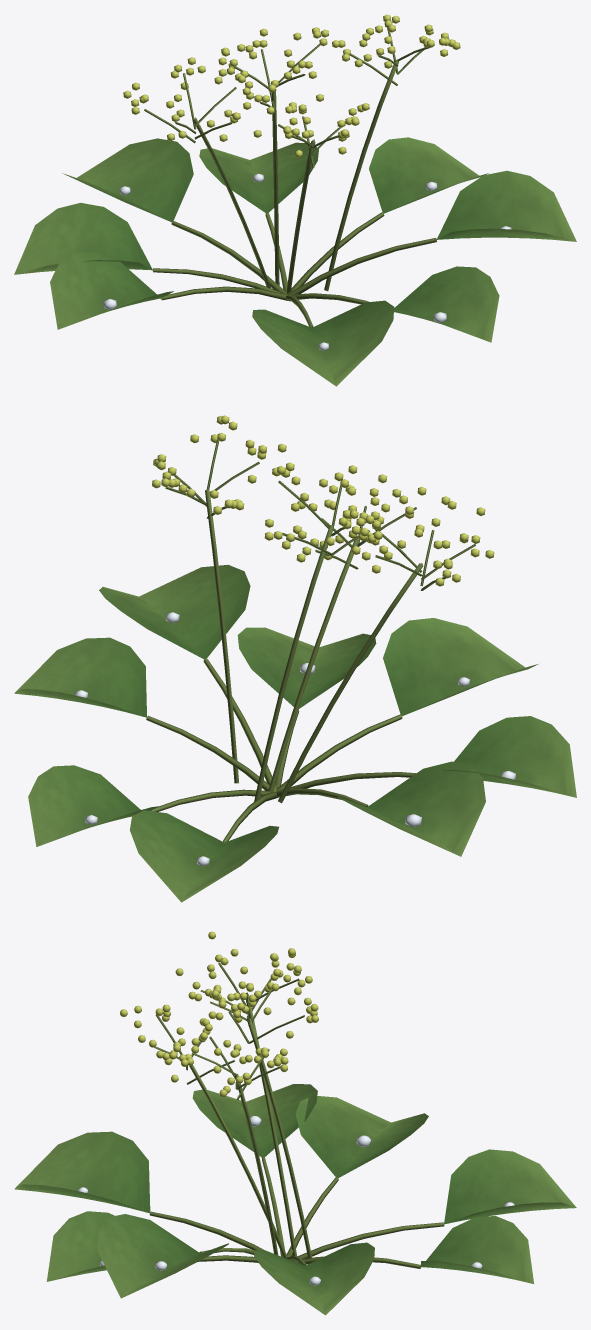
File: ladysmantle.glb
3 renders of one model, top to bottom at view 1: azimuth 30°, elevation 25°; view 2: azimuth 150°, elevation 25°; view 3: azimuth 270°, elevation 25°, orthographic. The views are drawn at different scales.
Parts seen in each view (by area): view 1: ladysmantle; view 2: ladysmantle; view 3: ladysmantle.
Part boxes in pixels (x1,y1,x2,y2): ladysmantle: (14,14,576,386); ladysmantle: (14,415,576,902); ladysmantle: (14,931,576,1315).
Bounding box in the file's own units: 0.5276 × 0.3072 × 0.5618.
1 material, 1 textured.
